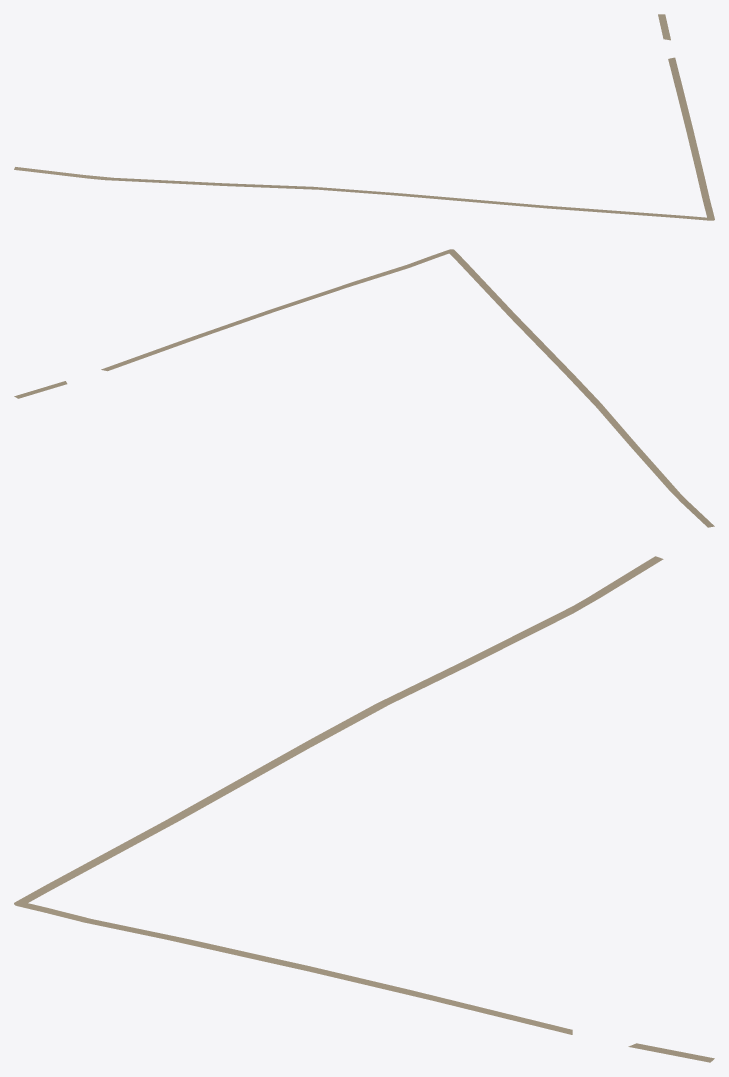
Rendered from farm_2_13_track.glb.
3 renders of one model, top to bottom at view 1: azimuth 30°, elevation 25°; view 2: azimuth 150°, elevation 25°; view 3: azimuth 270°, elevation 25°, orthographic. The views are drawn at different scales.
Parts seen in each view (by area): view 1: geometry_0; view 2: geometry_0; view 3: geometry_0.
Part boxes in pixels (x1,y1,x2,y2): geometry_0: [14, 14, 714, 220]; geometry_0: [14, 249, 714, 527]; geometry_0: [14, 556, 714, 1062].
Size of the model in its own units: 342 by 10.61 by 213.
